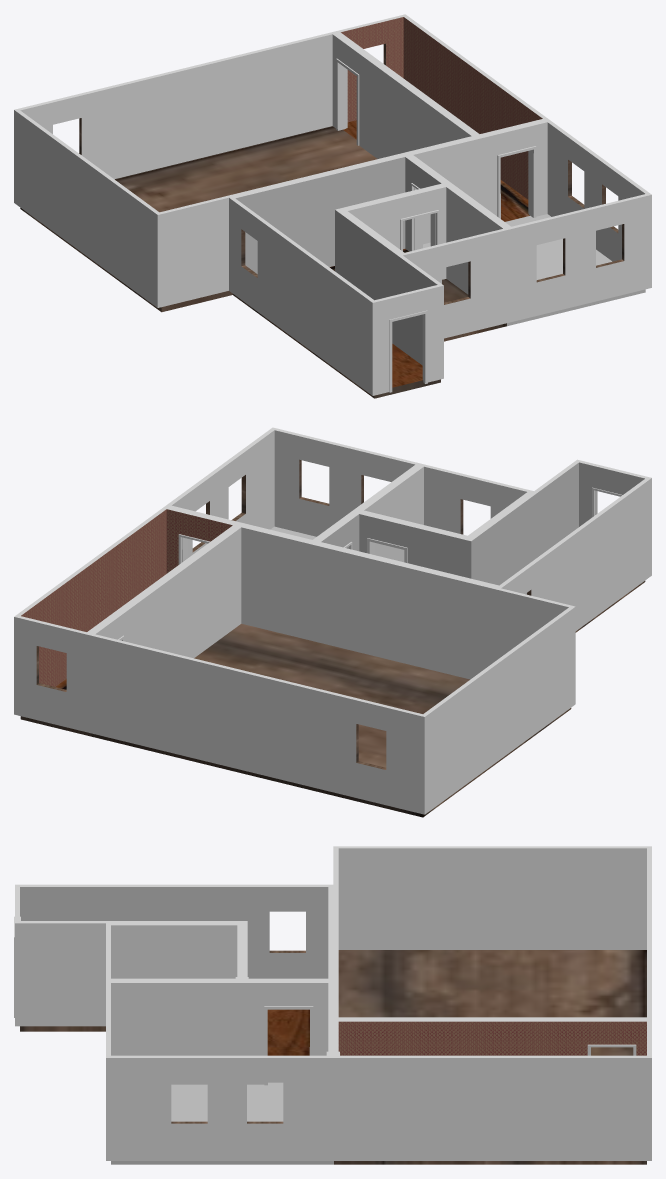
Rendered from HouseBase.fbx.
3 views of the same model, one above another, from view 1: azimuth 30°, elevation 25°; view 2: azimuth 150°, elevation 25°; view 3: azimuth 270°, elevation 25° (orthographic). The views are drawn at different scales.
Parts seen in each view (by area): view 1: Plane; view 2: Plane; view 3: Plane.
Part boxes in pixels (<box>): Plane: <box>14,14,651,398</box>; Plane: <box>14,427,651,817</box>; Plane: <box>14,846,651,1164</box>.
Bounding box in the file's own units: 1100 × 264 × 1402.
